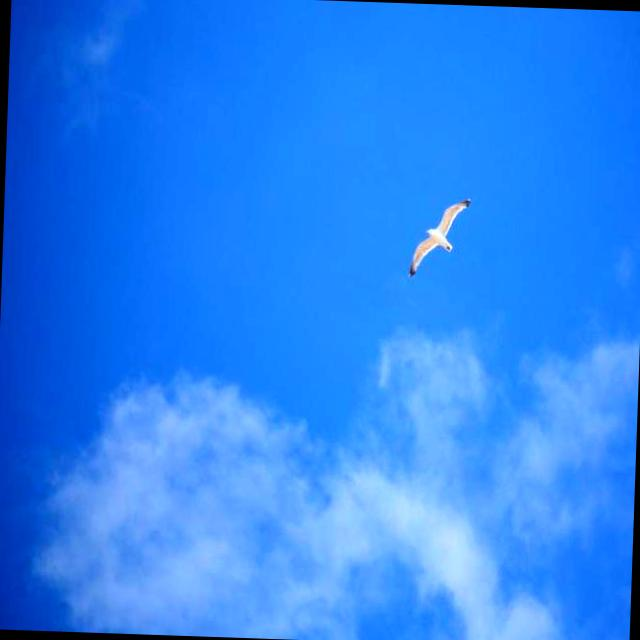bird: (402, 191, 473, 285)
